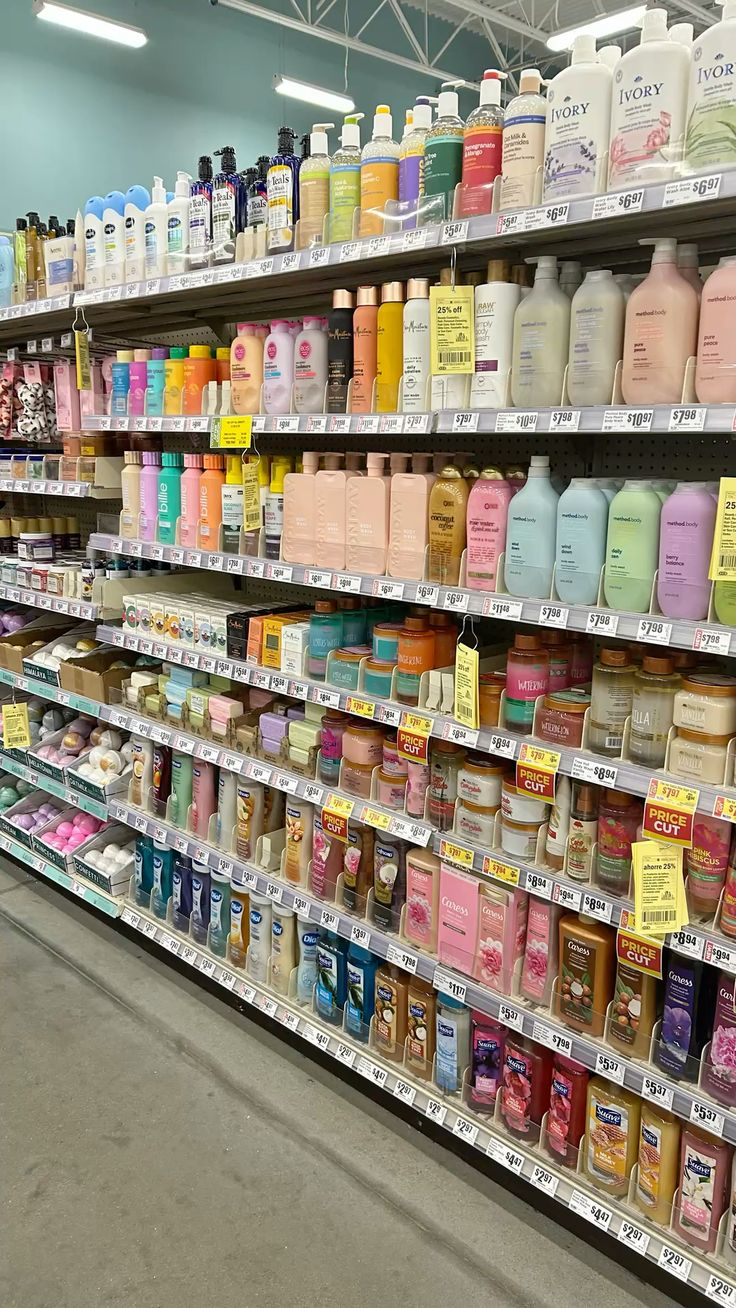Shampoo: (609, 9, 689, 190), (622, 239, 698, 406), (513, 258, 570, 408), (604, 480, 659, 613), (466, 469, 513, 590)
